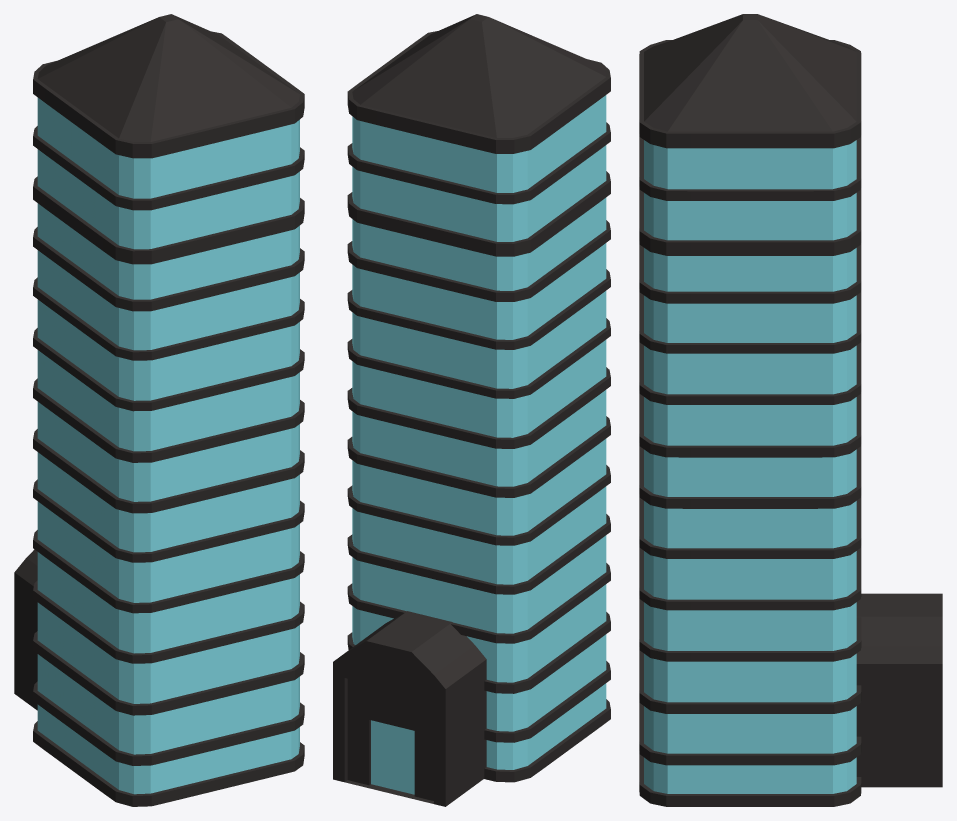
Rendered from skyscraper1_small.fbx.
3 views of the same model, side by side, from view 1: azimuth 30°, elevation 25°; view 2: azimuth 150°, elevation 25°; view 3: azimuth 270°, elevation 25° (orthographic). The views are drawn at different scales.
Parts seen in each view (by area): view 1: Cube, Cube.001, Cube.002, Cube.003; view 2: Cube, Cube.001, Cube.003, Cube.002, Cube.004; view 3: Cube, Cube.001, Cube.002, Cube.003.
Boxes of the visible parts, x1=… form: Cube: x1=37, y1=97, x2=299, y2=794; Cube.001: x1=33, y1=31, x2=304, y2=806; Cube.002: x1=37, y1=14, x2=299, y2=141; Cube.003: x1=14, y1=549, x2=37, y2=710; Cube: x1=352, y1=95, x2=606, y2=769; Cube.001: x1=347, y1=31, x2=610, y2=782; Cube.003: x1=333, y1=611, x2=486, y2=806; Cube.002: x1=352, y1=14, x2=606, y2=137; Cube.004: x1=371, y1=720, x2=414, y2=794; Cube: x1=644, y1=140, x2=856, y2=793; Cube.001: x1=639, y1=40, x2=861, y2=806; Cube.002: x1=644, y1=14, x2=856, y2=131; Cube.003: x1=856, y1=593, x2=942, y2=787.
Bounding box in the file's own units: 2324 × 8597 × 3176.
